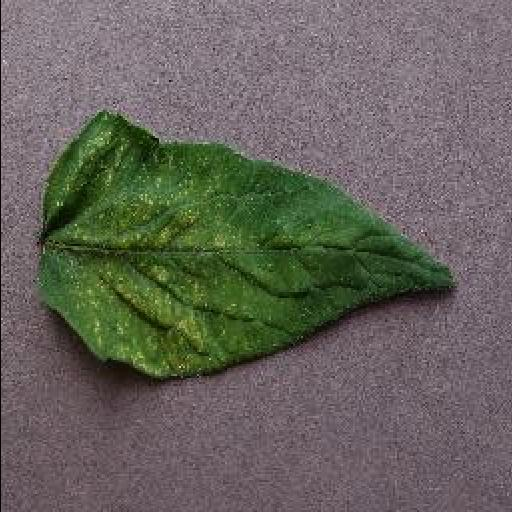disease_tomato: (38, 112, 456, 378)
